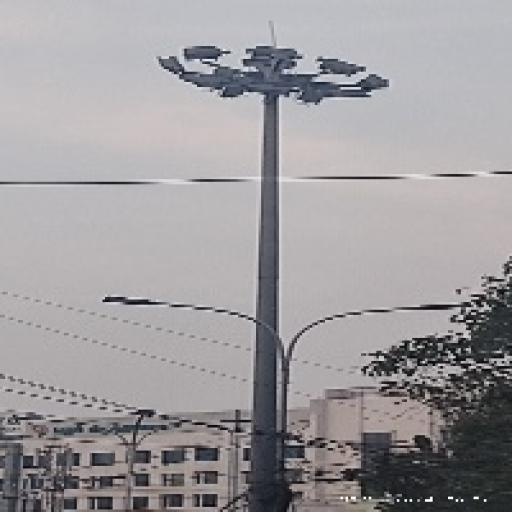Not Working: (239, 43, 303, 74), (316, 53, 366, 84), (177, 42, 233, 68), (153, 53, 189, 78), (356, 73, 394, 95)
